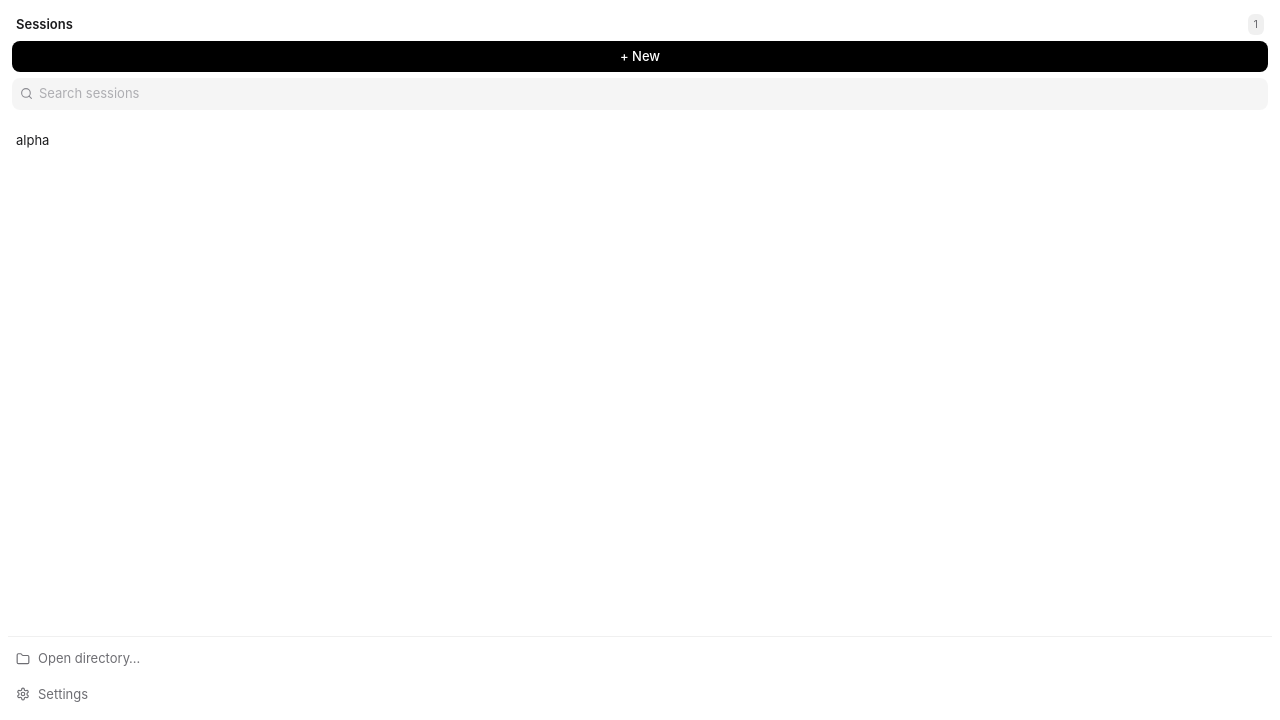
SessionListPanel › shows no-matches text
The image size is (1280, 720).
In the field labelled "Search sessions": (650, 94) [39, 84, 1260, 104], type "zzz"
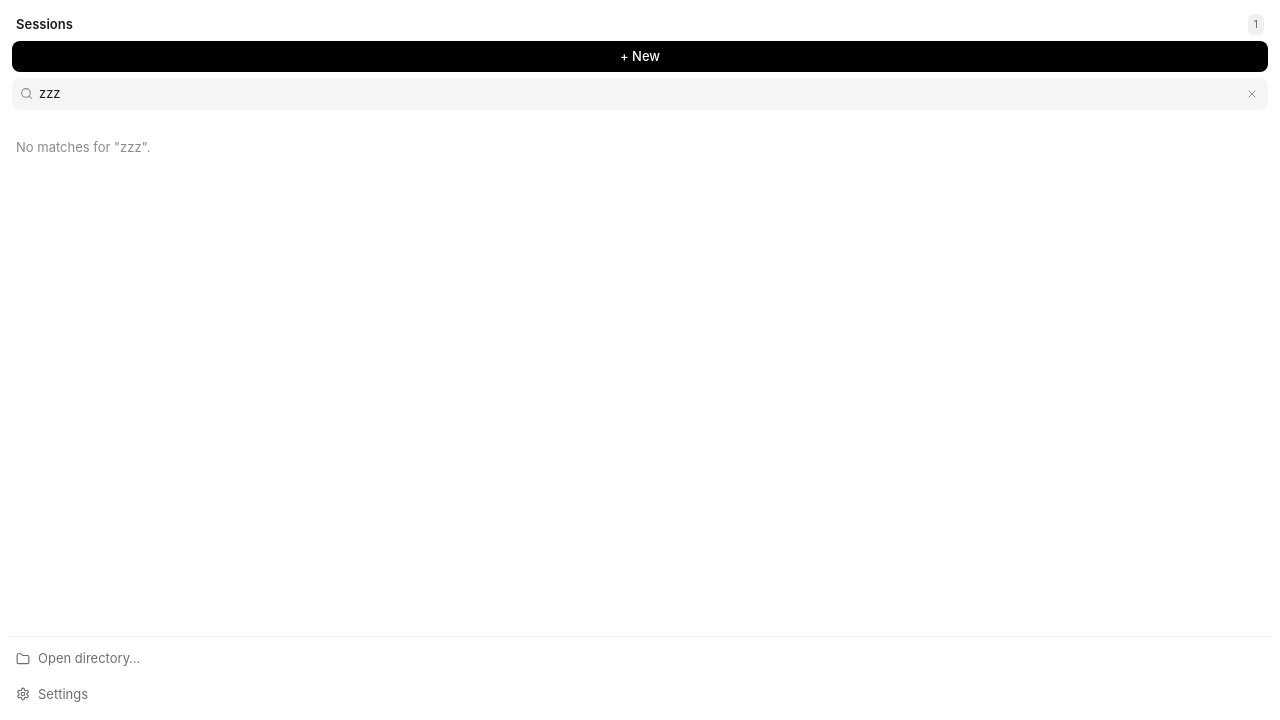
Expected: the text "No matches for \"zzz\"." is shown, [16, 138, 150, 154]
